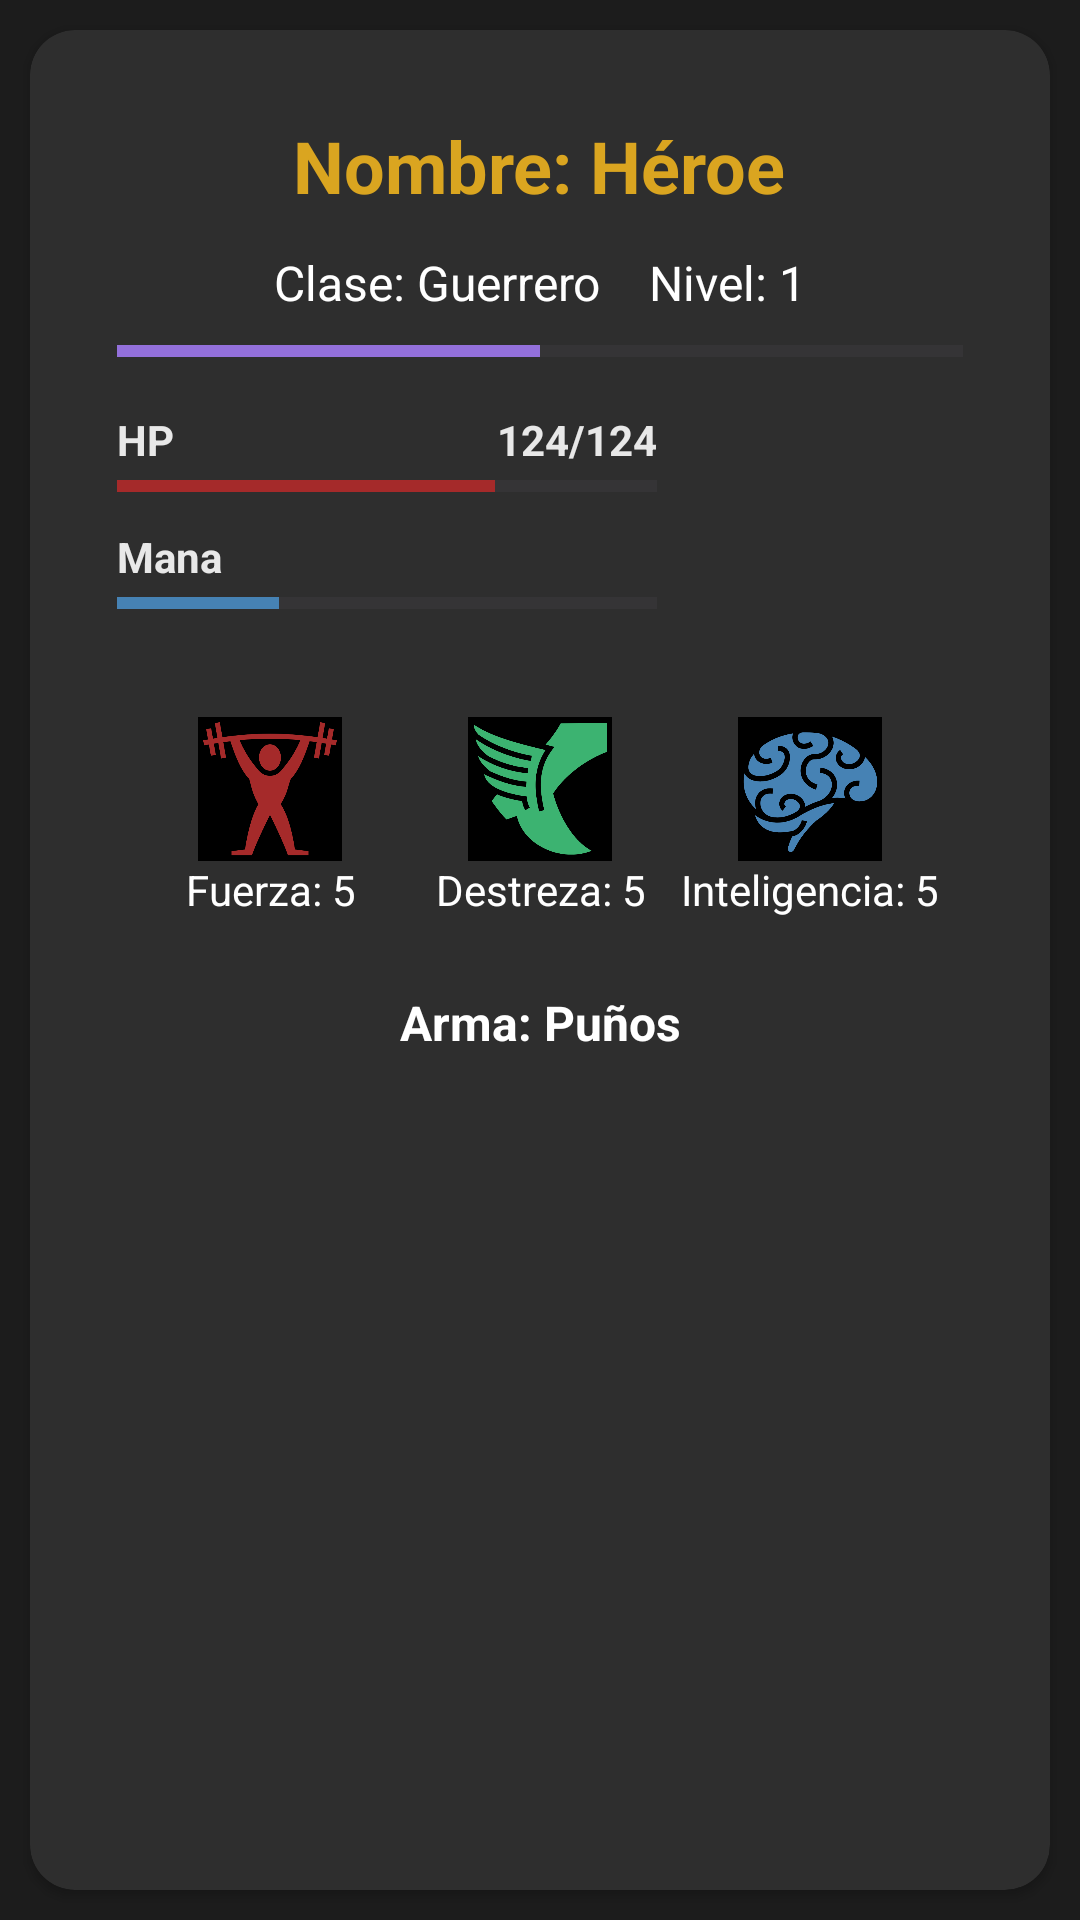

Named icons in this screenshot (1080 × 1920) and their bounding boxes, [x1, y1, x2, y2]:
brain: [738, 717, 882, 861]
wingfoot: [468, 717, 612, 861]
